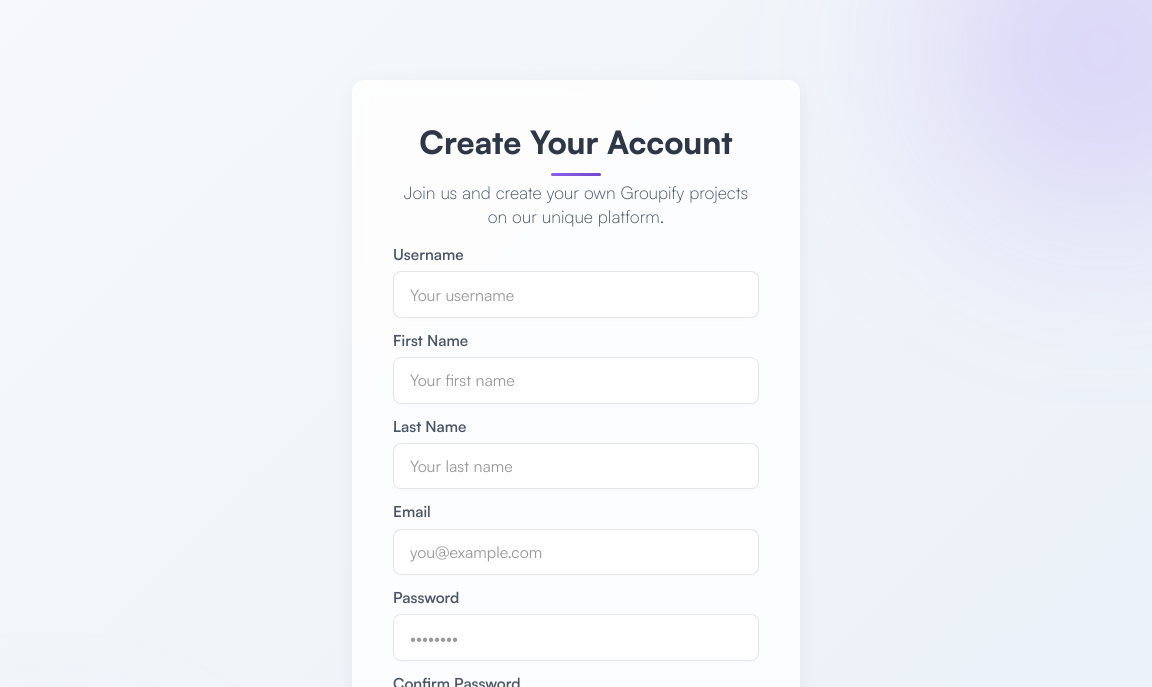
Test: SignupPage › shows error if passwords do not match
Type "testuser" into the field labelled "Username" at [576, 295], box x1=393 y1=271 x2=759 y2=318
Type "Test" into the field labelled "First Name" at [576, 380], box x1=393 y1=357 x2=759 y2=404
Type "User" into the field labelled "Last Name" at [576, 466], box x1=393 y1=443 x2=759 y2=489
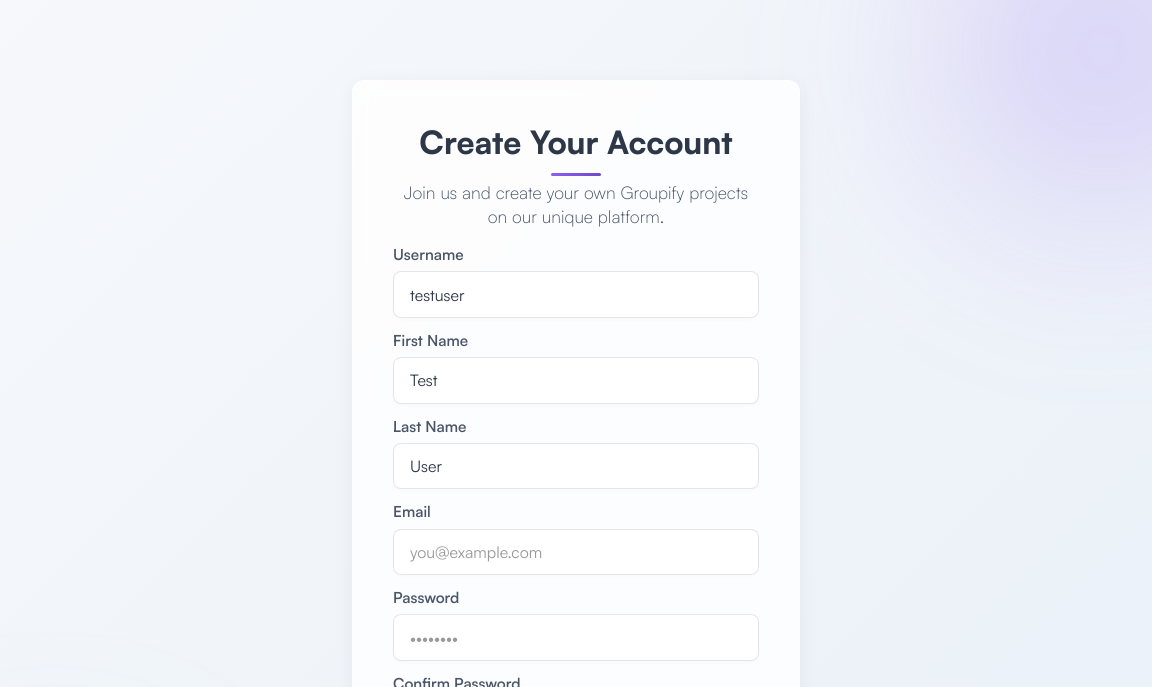
Type "test@example.com" into the field labelled "Email" at [576, 552], box x1=393 y1=529 x2=759 y2=575
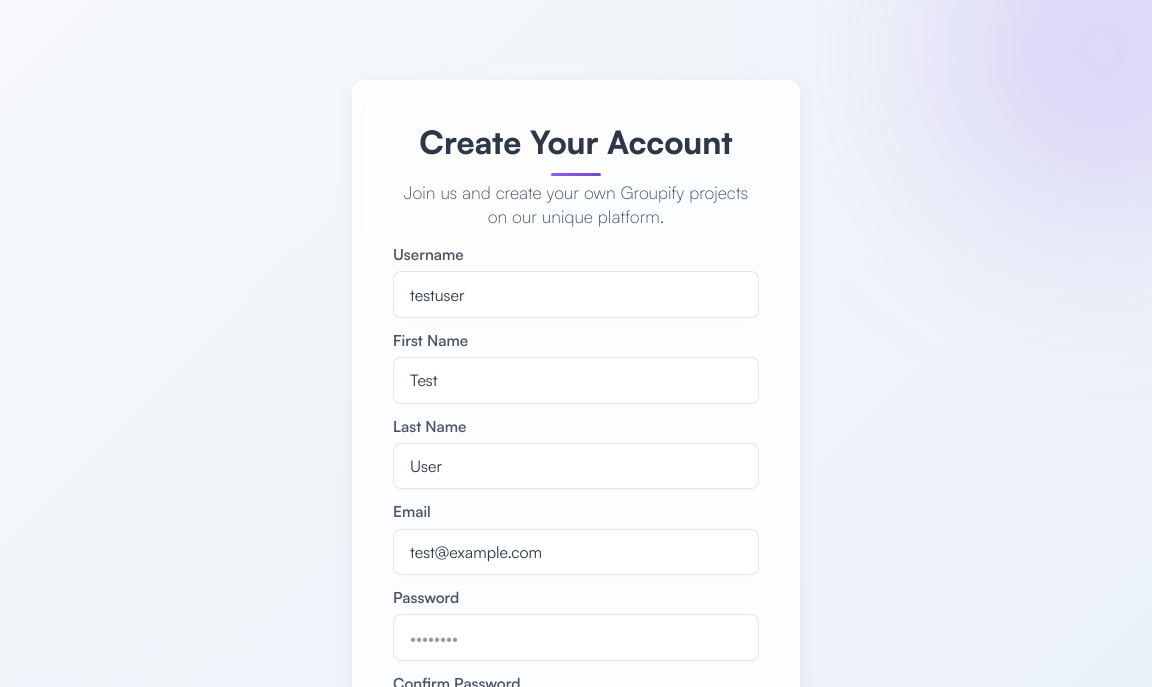
Type "P@ssw0rd!" into the password field labelled "Password" at [576, 638], box x1=393 y1=614 x2=759 y2=661
(page scrolled)
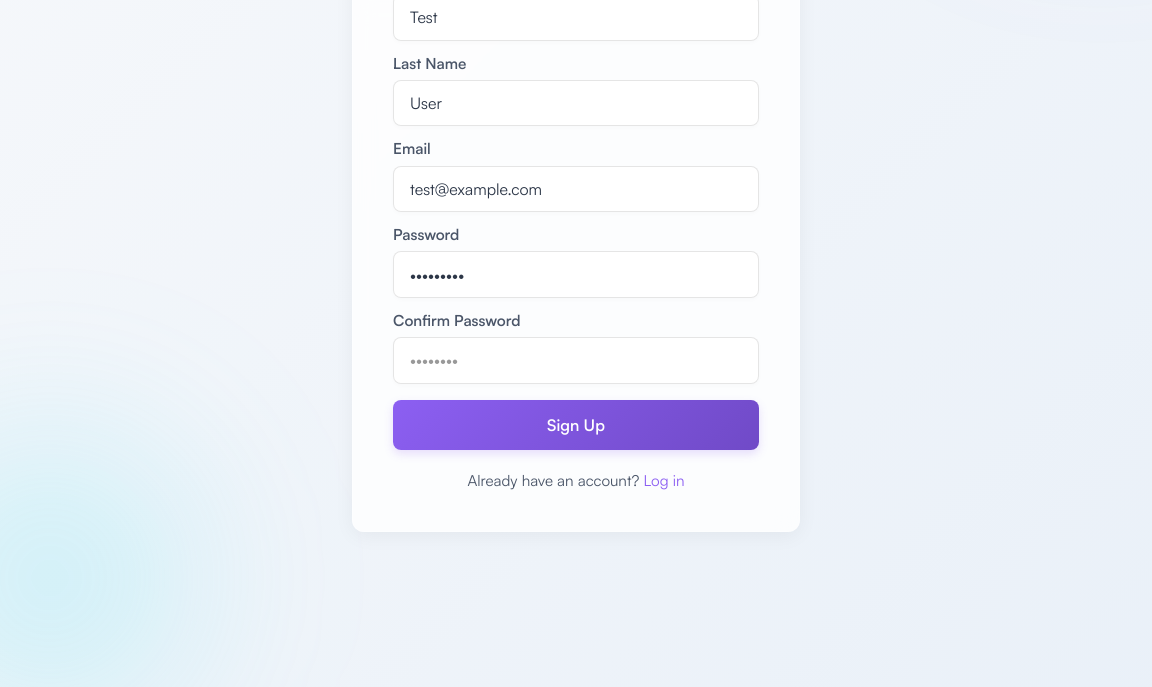
Type "P@ssw0rd!" into the password field labelled "Confirm Password" at [576, 360], box x1=393 y1=337 x2=759 y2=384
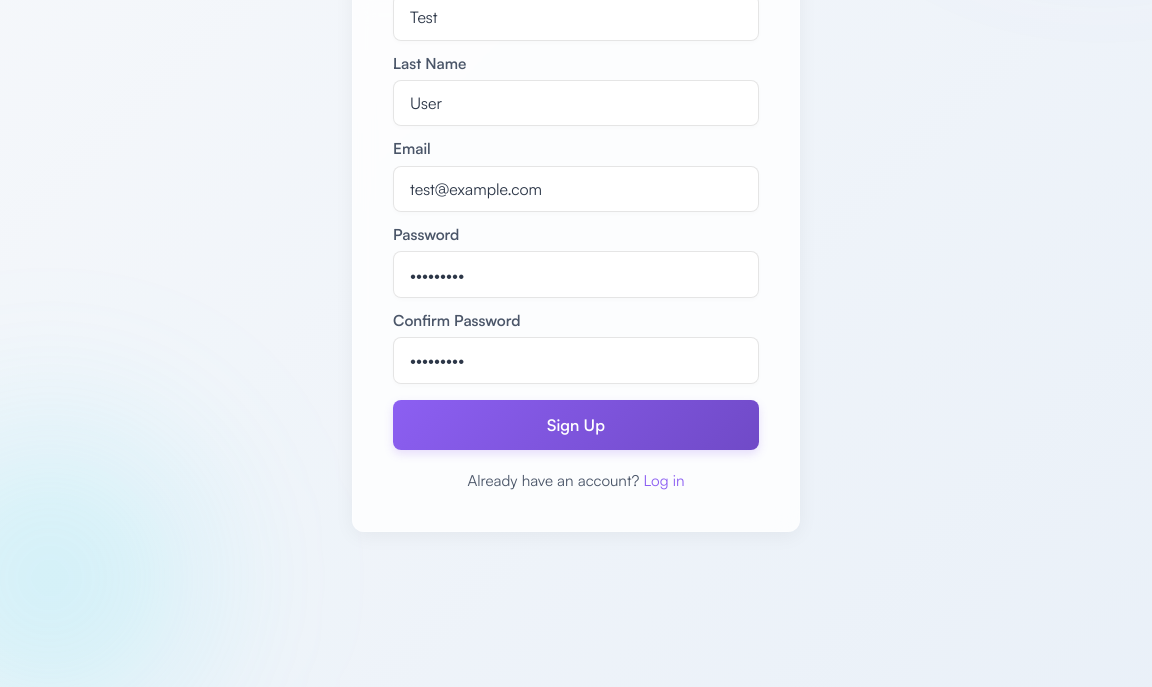
Type "WrongPass1!" into the password field labelled "Confirm Password" at [576, 360], box x1=393 y1=337 x2=759 y2=384
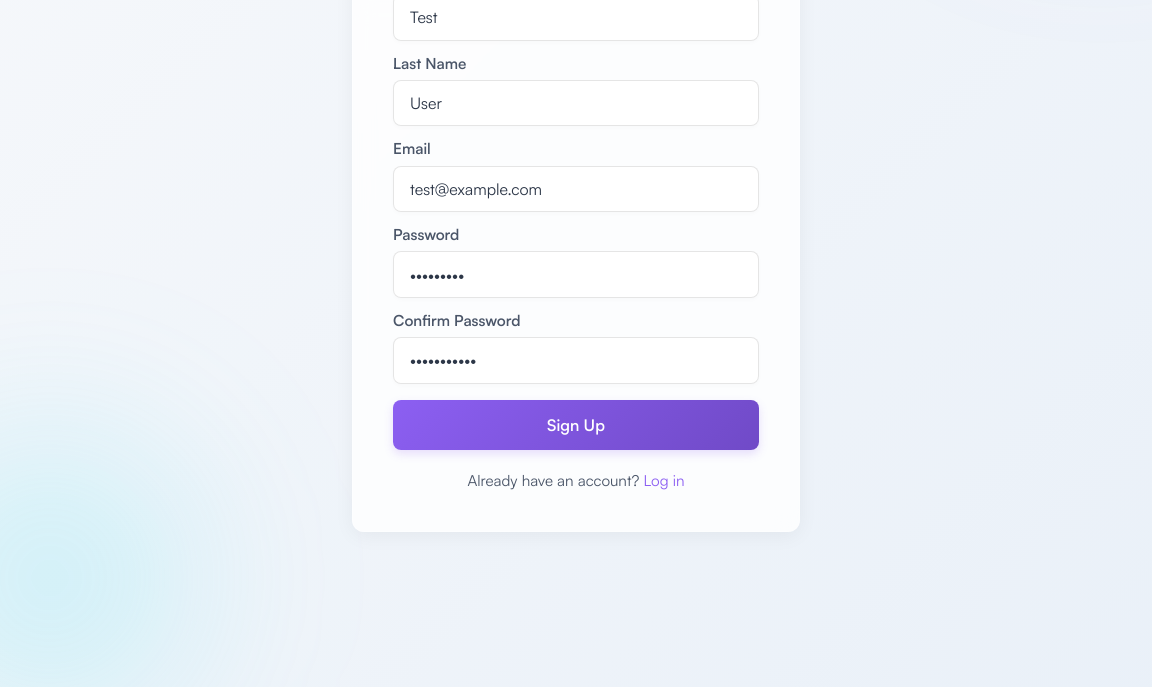
Click the button "Sign Up" at [576, 425], box x1=393 y1=400 x2=759 y2=450
(page scrolled)
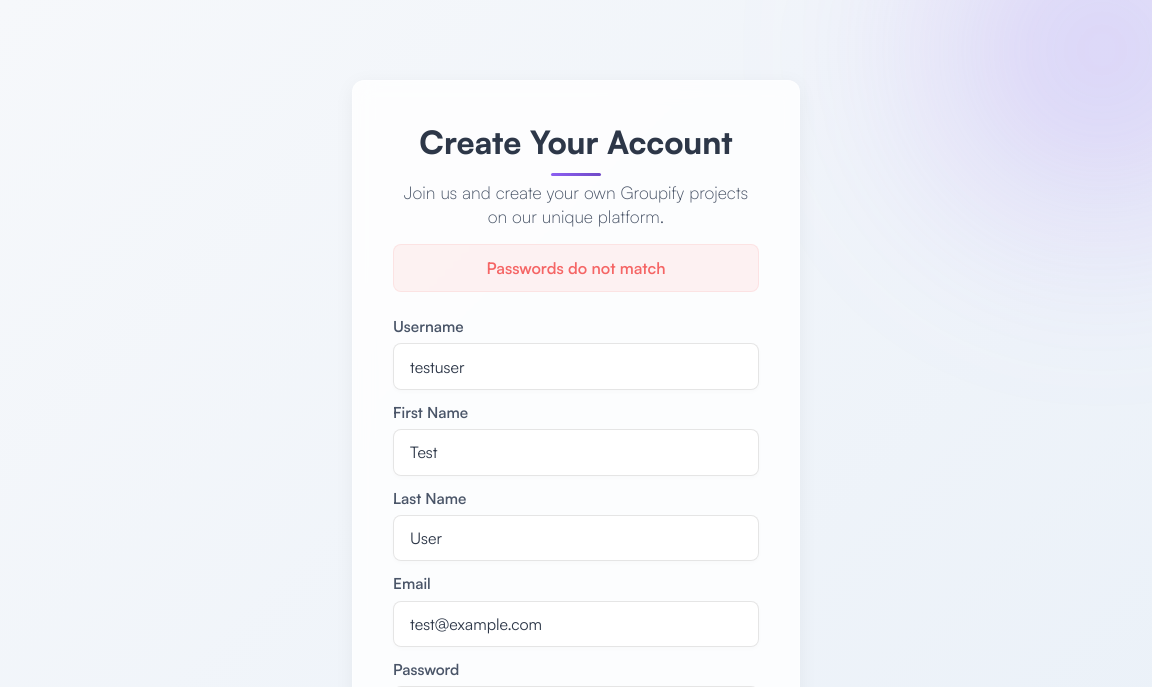
Check: the text "Passwords do not match" is shown, box x1=393 y1=244 x2=759 y2=292
